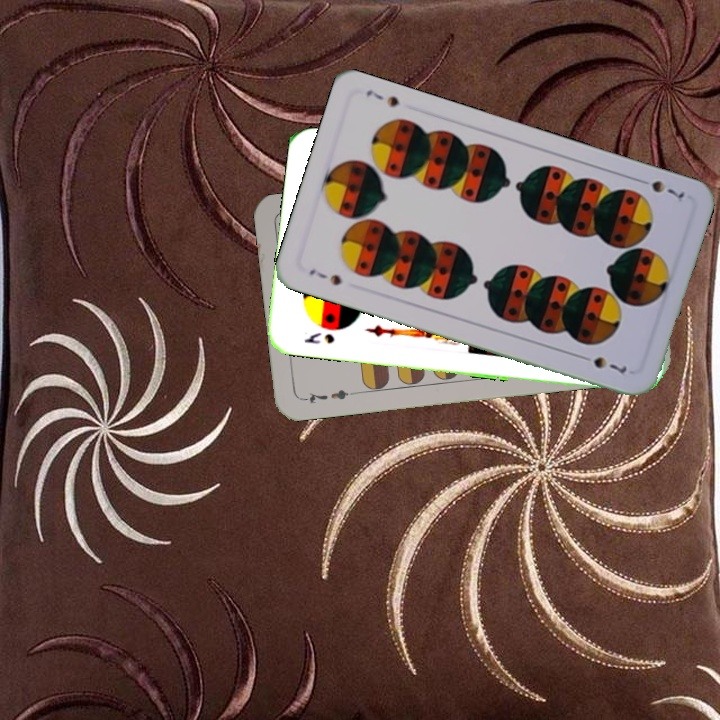E7: (299, 385, 351, 407)
S7: (633, 174, 687, 201), (305, 264, 344, 289)
SK: (300, 328, 337, 347)
